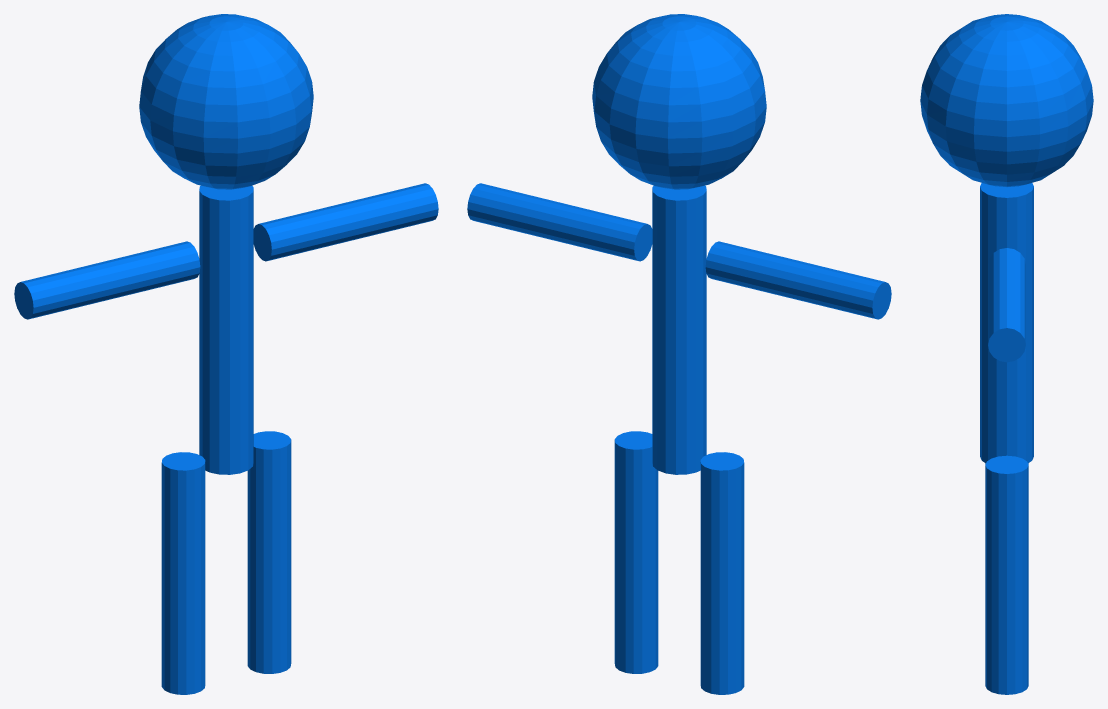
File: Pemain_Smooth.obj
The picture shows the model from 3 angles, left to right: view 1: azimuth 30°, elevation 25°; view 2: azimuth 150°, elevation 25°; view 3: azimuth 270°, elevation 25°; orthographic projection.
Visible parts, largest first — view 1: Pemain; view 2: Pemain; view 3: Pemain.
Part boxes in pixels (bbox=[...]): Pemain: bbox=[14, 14, 438, 694]; Pemain: bbox=[467, 14, 891, 694]; Pemain: bbox=[920, 14, 1093, 694].
Size of the model in its own units: 1.7 by 2.62 by 0.64.
